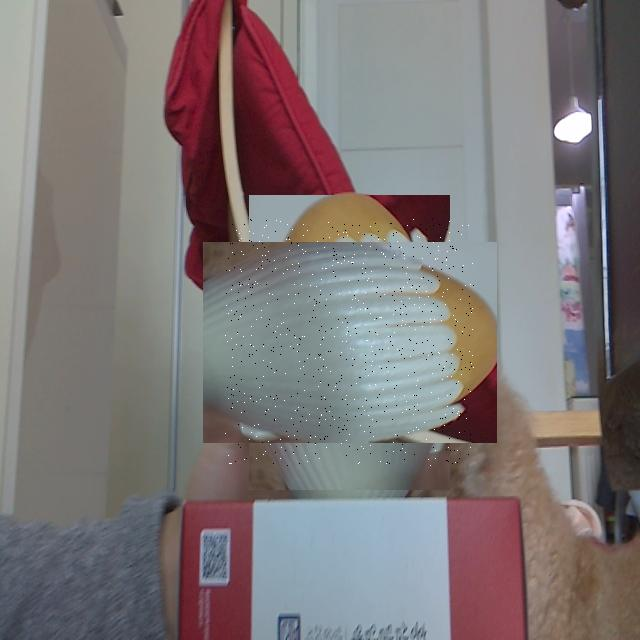pear: (225, 219, 474, 466)
